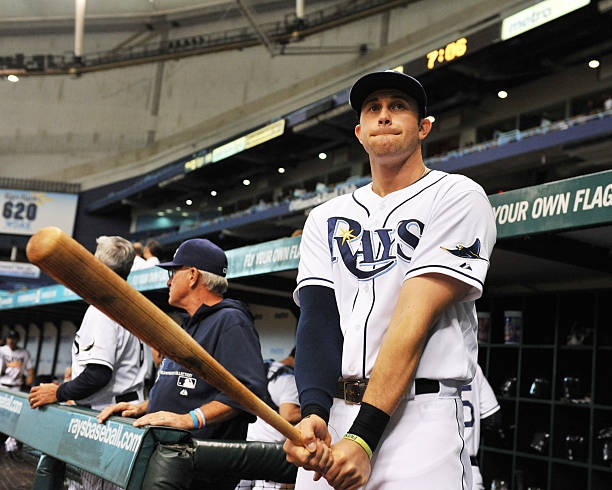bita: (31, 230, 324, 453)
